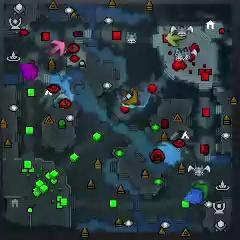p1: (183, 187, 204, 205)
p3: (20, 62, 39, 80)
x1: (50, 39, 65, 56)
x2: (166, 30, 184, 46)
x4: (193, 183, 208, 200)
x5: (121, 88, 140, 104)
